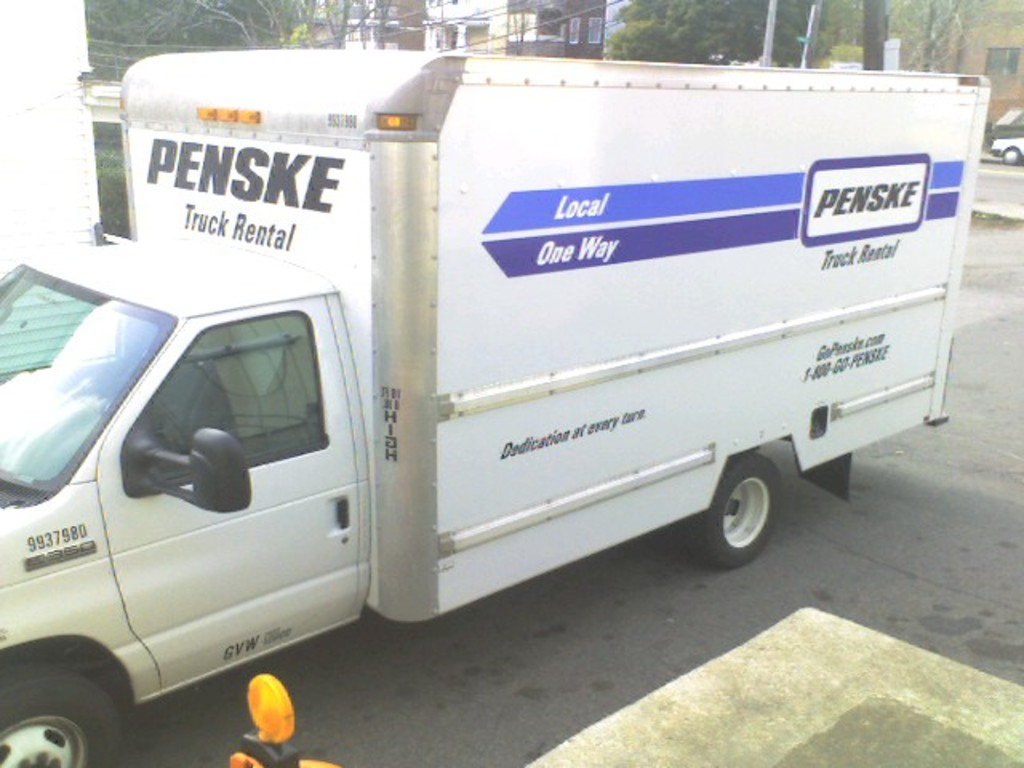truck: (1, 37, 1004, 768)
